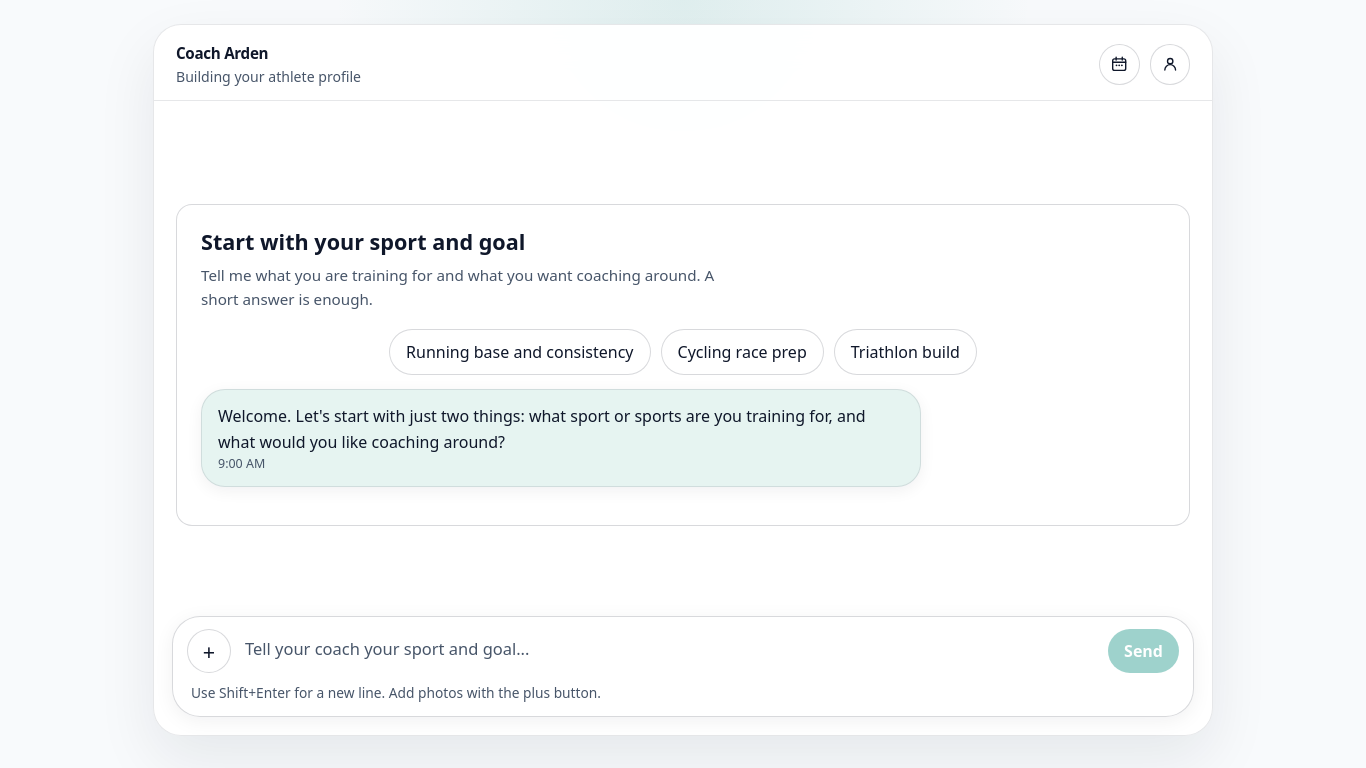
Test: CoachChat onboarding › prefills the onboarding composer when a starter prompt is chosen
Click the button "Running base and consistency" at (520, 352), box left=389, top=329, right=650, bottom=375
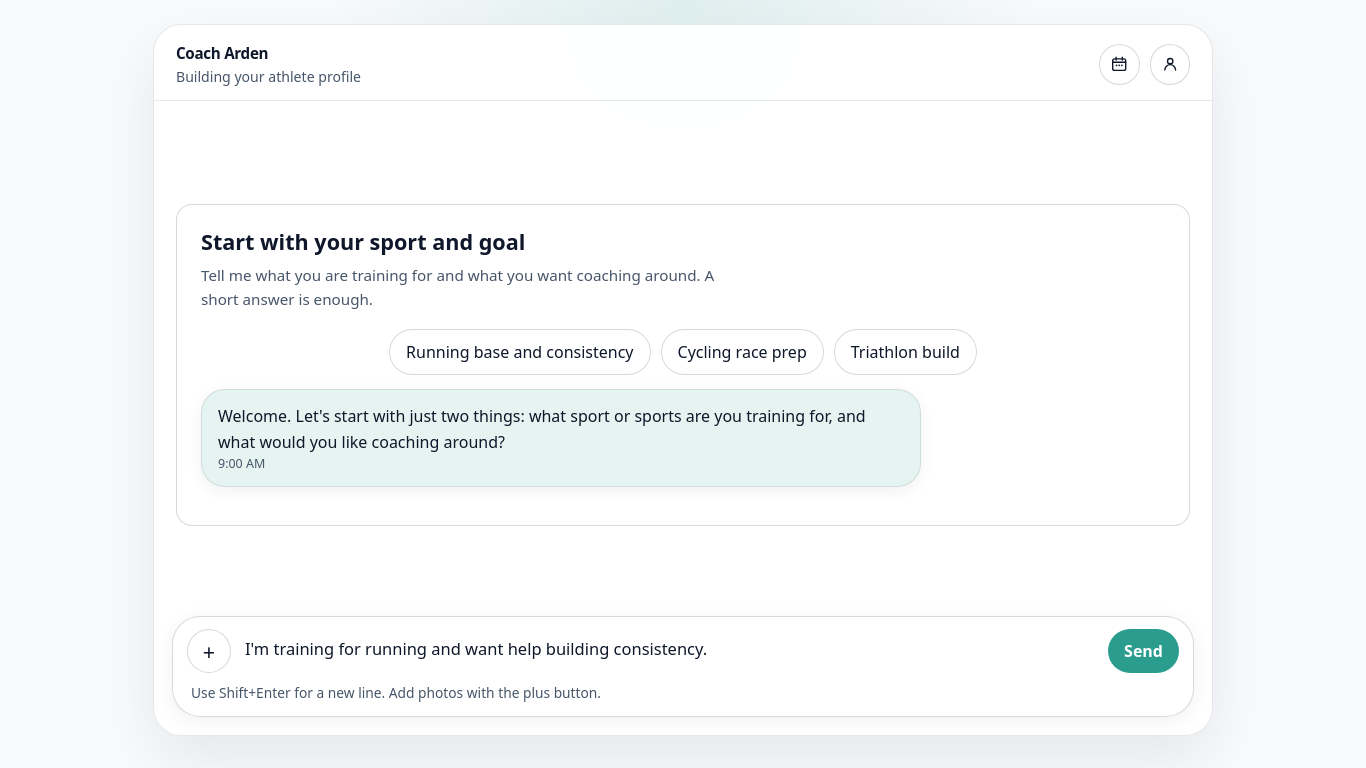
Result: the text box with placeholder "Tell your coach your sport and goal..." holds "I'm training for running and want help building consistency." at left=243, top=629, right=1096, bottom=673
